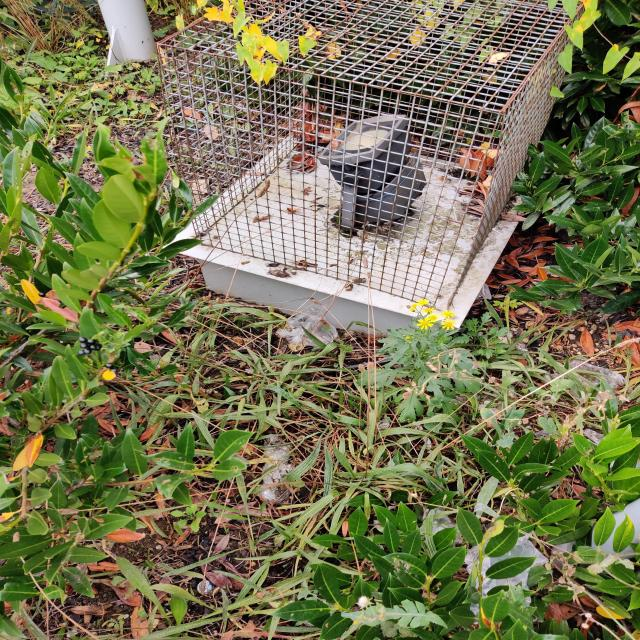litter: (464, 530, 549, 623), (540, 359, 633, 405), (254, 434, 296, 503), (276, 306, 338, 348), (492, 324, 534, 363), (420, 505, 461, 544), (534, 428, 563, 440), (197, 580, 215, 595)
